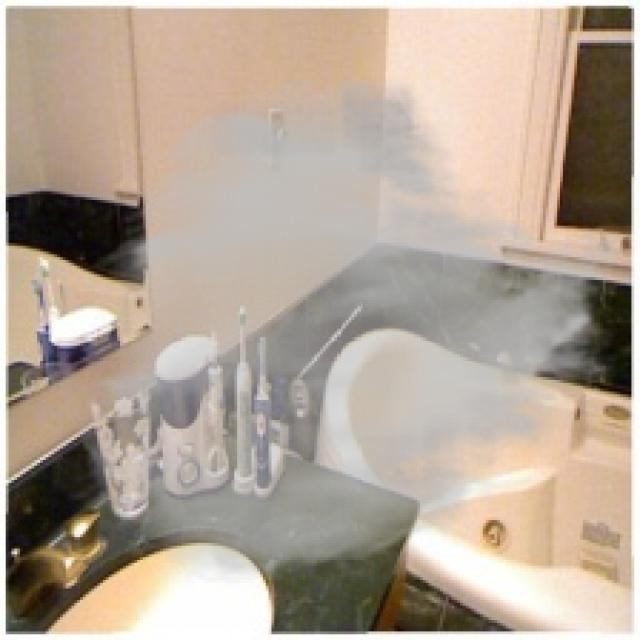smoke: (74, 71, 632, 588)
